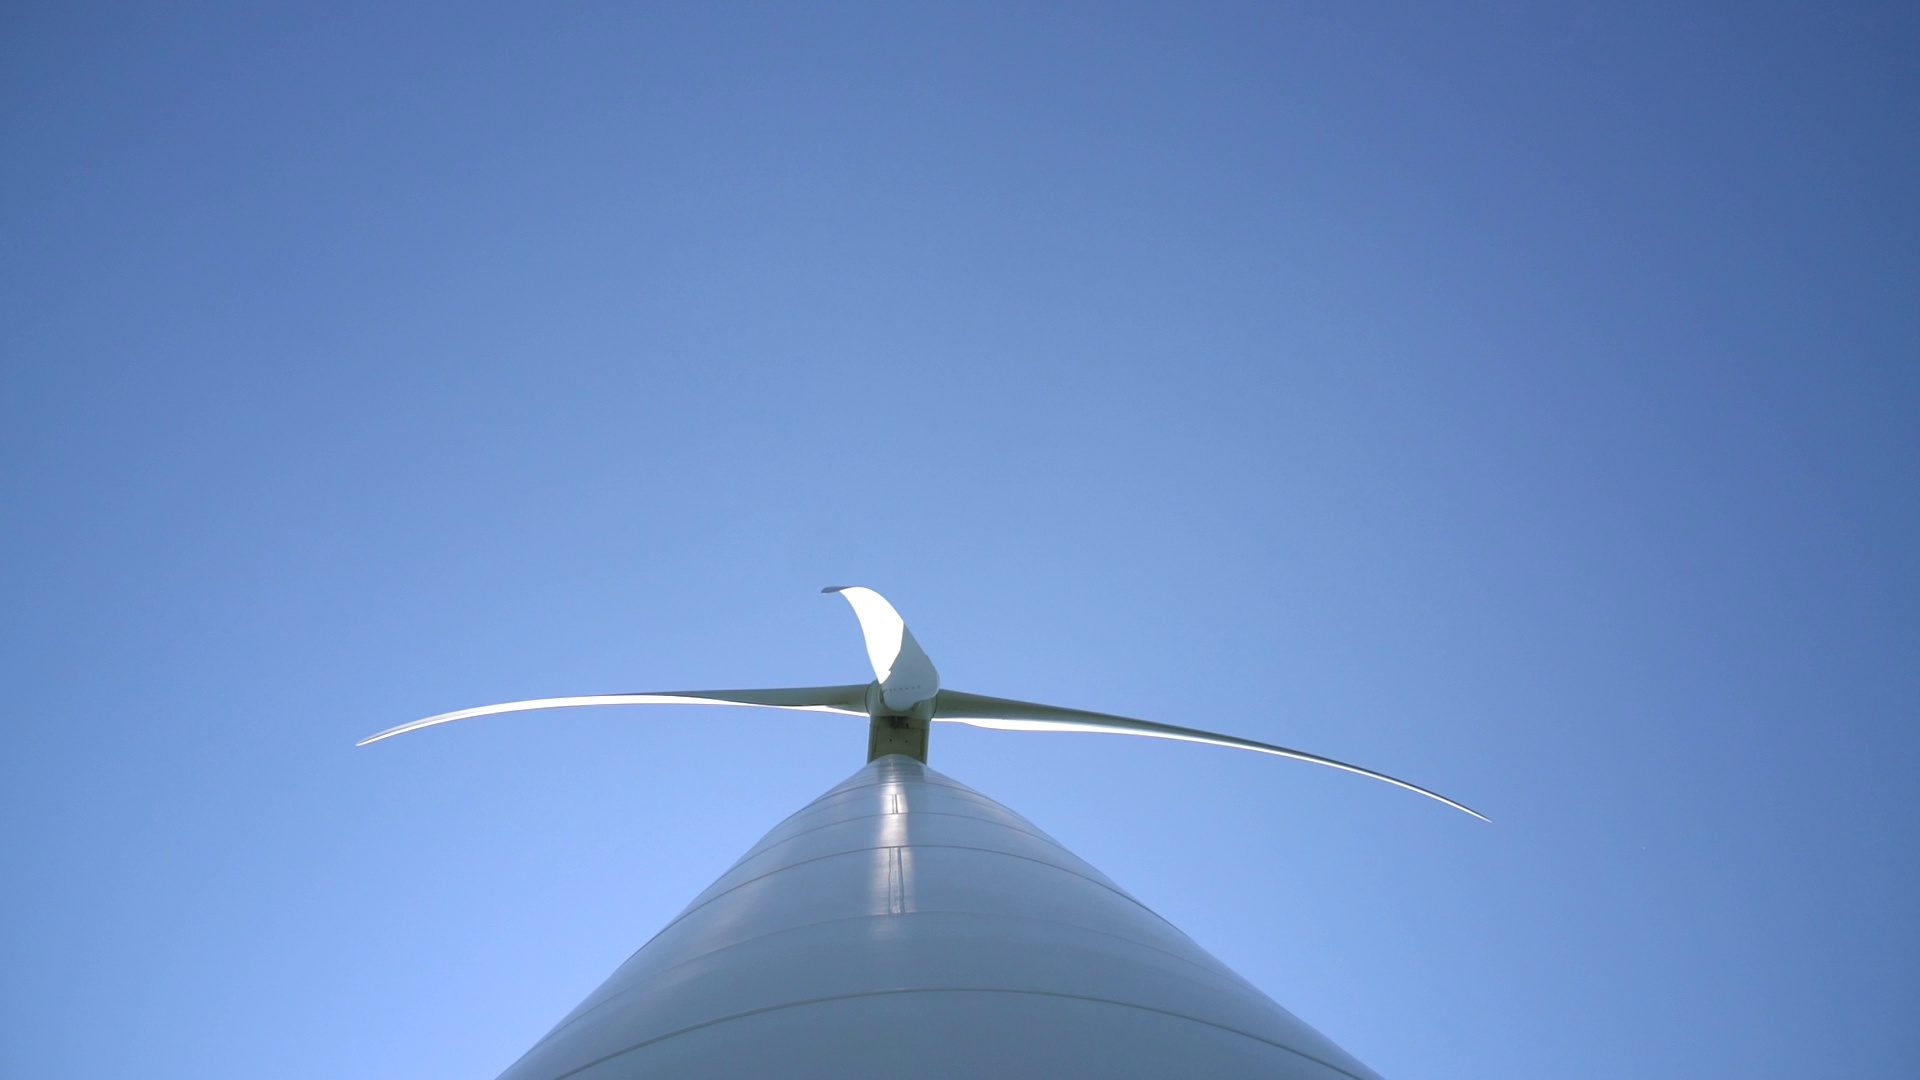turbine: (905, 628, 1553, 874), (280, 657, 876, 774), (757, 553, 1015, 818)
